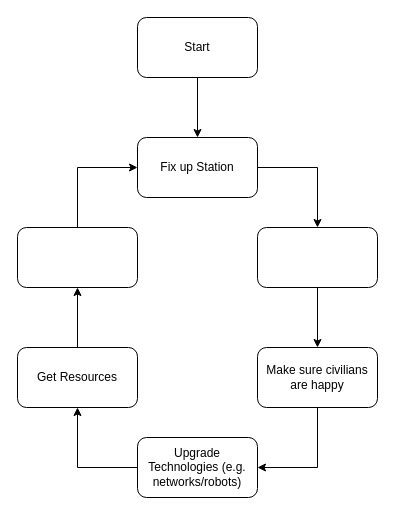
Image size: 395x515. Some labels were removed from this diagram. Each missing label, with the centre of its shape:
Establish Workshops (e.g. hydroponics): point (317, 257)
Fix Issues: point (77, 257)
